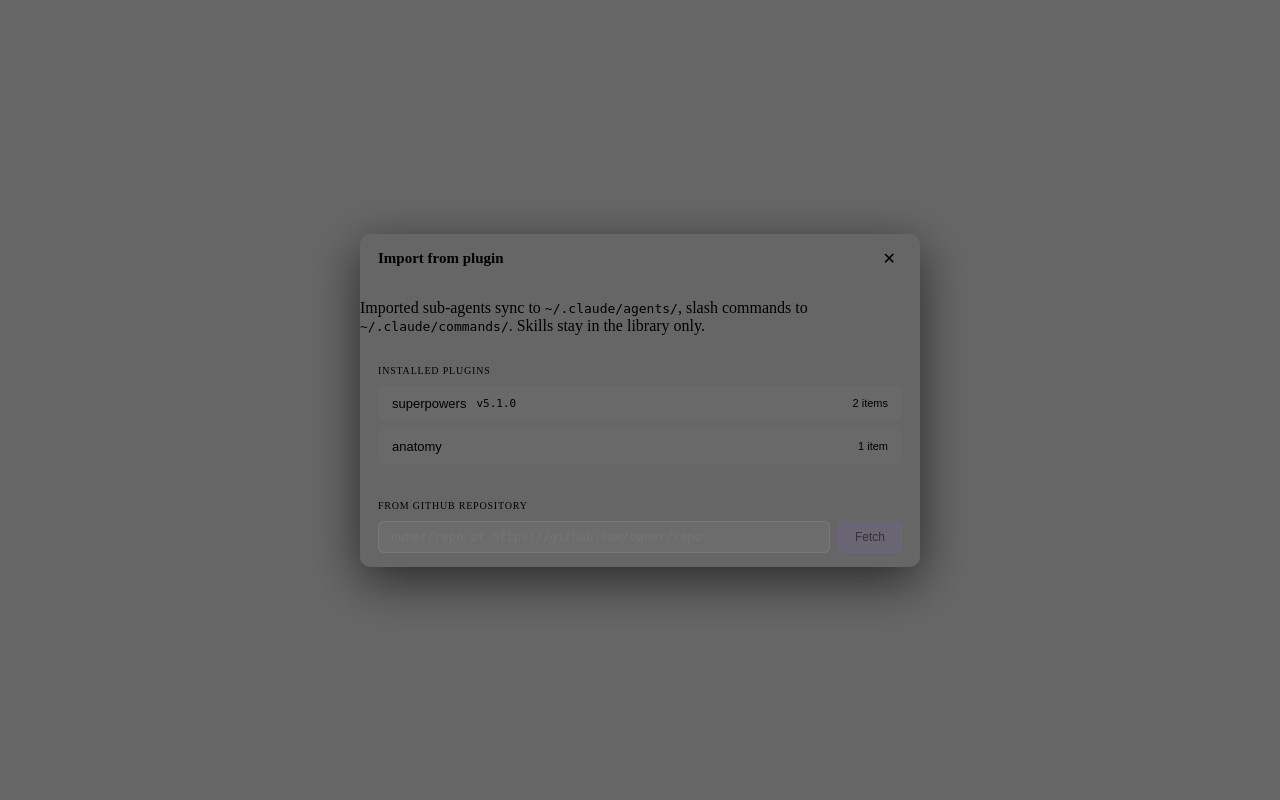
Test case: ImportPluginDialog › clicking a plugin expands its skill list
Check: the text "superpowers" is shown, box [392,396,466,410]
Click the button "superpowers v5.1.0 2 items" at (429, 403), box [378,386,902,420]
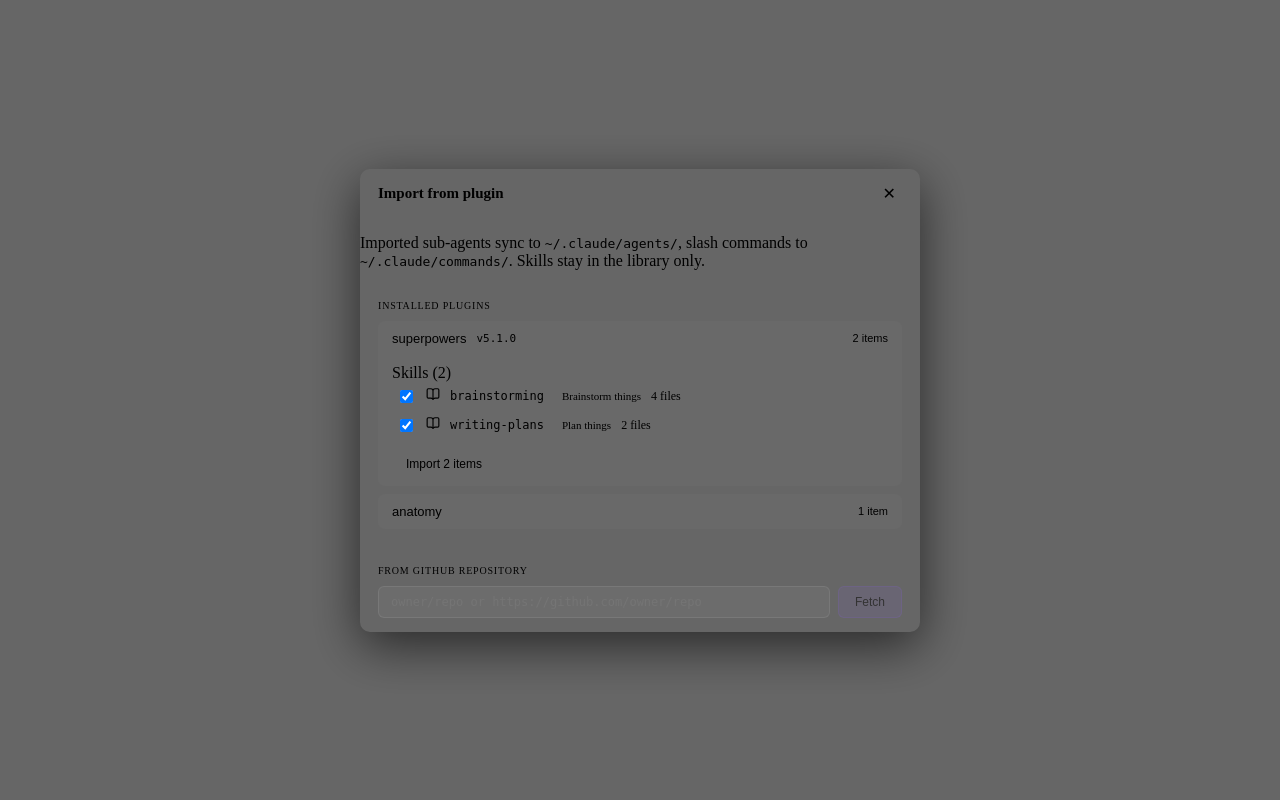
Check: the text "brainstorming" is shown, box [450,389,544,403]
Check: the text "writing-plans" is shown, box [450,418,544,432]
